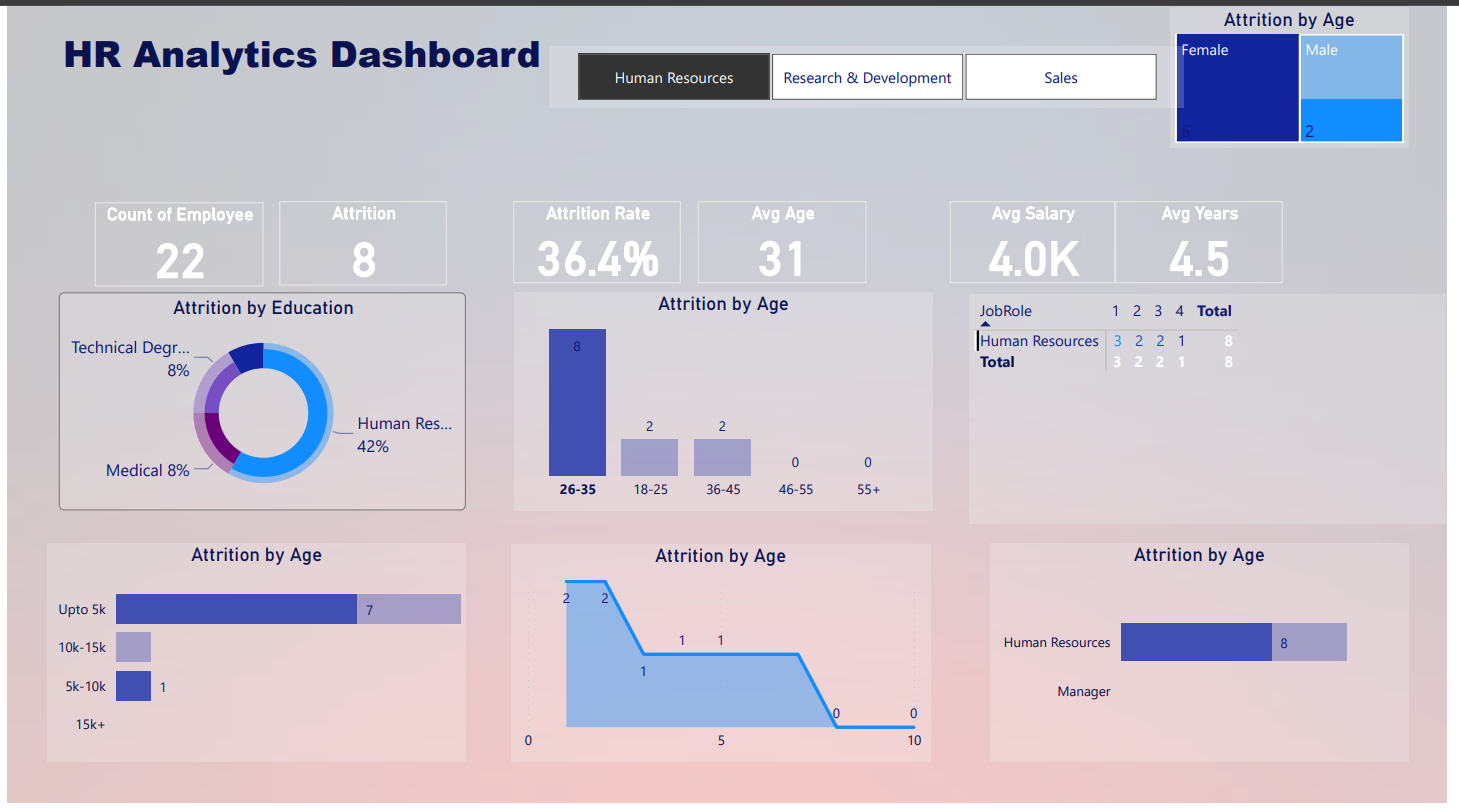

What the dashboard file says about the page in this screenshot:
{"tool":"powerbi","page":{"name":"Page 1","canvas":[1280,720],"ordinal":0},"visuals":[{"type":"card","title":"Count of Employee","fields":{"Values":["CountNonNull(HR_Analytics.EmpID)"]},"box":[77.7,186.5,150.5,74.4],"z":0},{"type":"card","title":"Attrition","fields":{"Values":["Sum(HR_Analytics.AttritionCount)"]},"box":[242,184.7,149.4,75.6],"z":1000},{"type":"card","title":"Attrition Rate","fields":{"Values":["HR_Analytics.AttritionRate"]},"box":[450,184.7,149.4,73.7],"z":2000},{"type":"card","title":"Avg Age","fields":{"Values":["Avg(HR_Analytics.Age)"]},"box":[614.5,184.7,149.4,73.7],"z":3000},{"type":"card","title":"Avg Salary","fields":{"Values":["Avg(HR_Analytics.MonthlyIncome)"]},"box":[837.6,184.7,147.5,73.7],"z":4000},{"type":"card","title":"Avg Years","fields":{"Values":["Avg(HR_Analytics.YearsAtCompany)"]},"box":[985.1,184.7,149.4,73.7],"z":5000},{"type":"donutChart","title":"Attrition by Education","fields":{"Category":["HR_Analytics.EducationField"],"Y":["Sum(HR_Analytics.AttritionCount)"]},"box":[46.1,266.2,362.4,194.2],"z":6000},{"type":"columnChart","title":"Attrition by Age","fields":{"Y":["Sum(HR_Analytics.AttritionCount)"],"Category":["HR_Analytics.AgeGroup"]},"box":[450.5,266.2,372.1,194.2],"z":7000},{"type":"pivotTable","fields":{"Columns":["HR_Analytics.JobSatisfaction"],"Rows":["HR_Analytics.JobRole"],"Values":["Sum(HR_Analytics.AttritionCount)"]},"box":[855,267.9,423.9,203.9],"z":8000},{"type":"barChart","title":"Attrition by Age","fields":{"Category":["HR_Analytics.SalarySlab"],"Y":["Sum(HR_Analytics.AttritionCount)"]},"box":[36.1,489.1,372.1,194.2],"z":9000},{"type":"barChart","title":"Attrition by Age","fields":{"Y":["Sum(HR_Analytics.AttritionCount)"],"Category":["HR_Analytics.JobRole"]},"box":[874.2,489.1,372.1,194.2],"z":10000},{"type":"areaChart","title":"Attrition by Age","fields":{"Category":["HR_Analytics.YearsAtCompany"],"Y":["Sum(HR_Analytics.AttritionCount)"]},"box":[448.1,490.3,372.5,192.9],"z":10001},{"type":"treemap","title":"Attrition by Age","fields":{"Values":["Sum(HR_Analytics.AttritionCount)"],"Group":["HR_Analytics.Gender"]},"box":[1034.2,13.2,211.8,124.8],"z":10002},{"type":"slicer","title":"Attrition by Age","fields":{"Values":["HR_Analytics.Department"]},"box":[482.1,47.3,563.4,54.8],"z":10003},{"type":"textbox","box":[45.4,26.5,438.6,75.6],"z":10004}]}

Visuals, with their boxes in screenshot pixels (x1, y1, x2, y2), scaled from the page's 1280x720 canvas onto the 1459x811 screenshot:
"Count of Employee" card: bbox(89, 210, 260, 294)
"Attrition" card: bbox(276, 208, 446, 293)
"Attrition Rate" card: bbox(513, 208, 683, 291)
"Avg Age" card: bbox(700, 208, 871, 291)
"Avg Salary" card: bbox(955, 208, 1123, 291)
"Avg Years" card: bbox(1123, 208, 1293, 291)
"Attrition by Education" donutChart: bbox(53, 300, 466, 519)
"Attrition by Age" columnChart: bbox(513, 300, 938, 519)
pivotTable - HR_Analytics.JobSatisfaction x HR_Analytics.JobRole: bbox(975, 302, 1458, 531)
"Attrition by Age" barChart: bbox(41, 551, 465, 770)
"Attrition by Age" barChart: bbox(996, 551, 1421, 770)
"Attrition by Age" areaChart: bbox(511, 552, 935, 770)
"Attrition by Age" treemap: bbox(1179, 15, 1420, 155)
"Attrition by Age" slicer: bbox(550, 53, 1192, 115)
textbox: bbox(52, 30, 552, 115)
